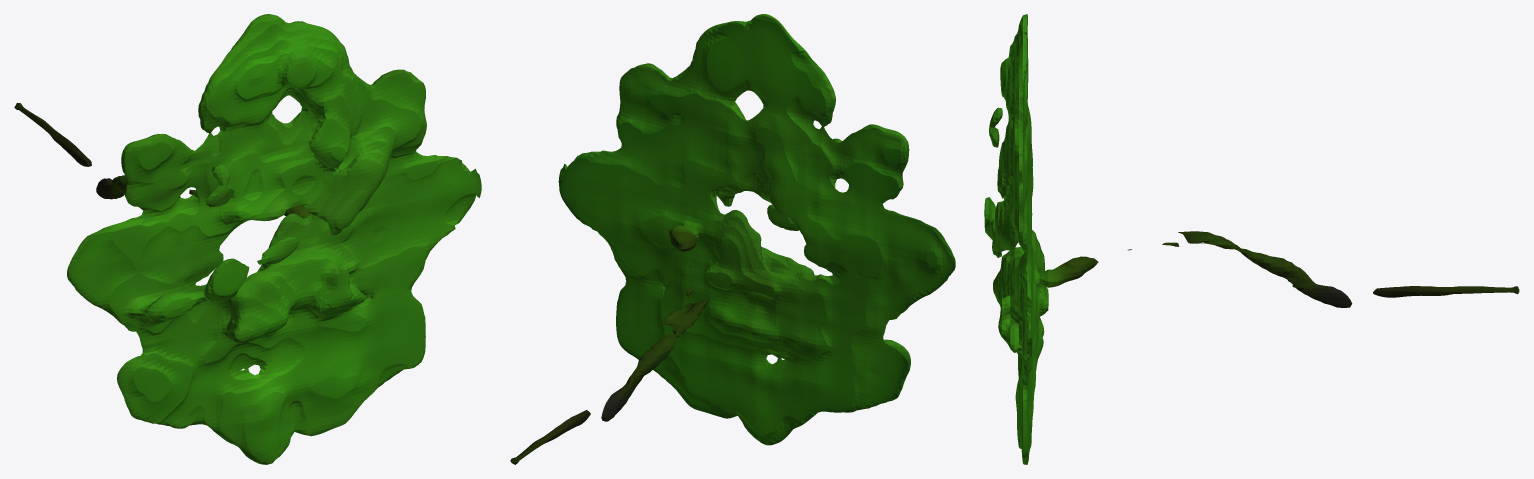
The model's file is Pink flower_1750032816.obj.
3 renders of one model, left to right at view 1: azimuth 30°, elevation 25°; view 2: azimuth 150°, elevation 25°; view 3: azimuth 270°, elevation 25°, orthographic. The views are drawn at different scales.
Bounding box in the file's own units: 1.7 × 1.76 × 1.98.
